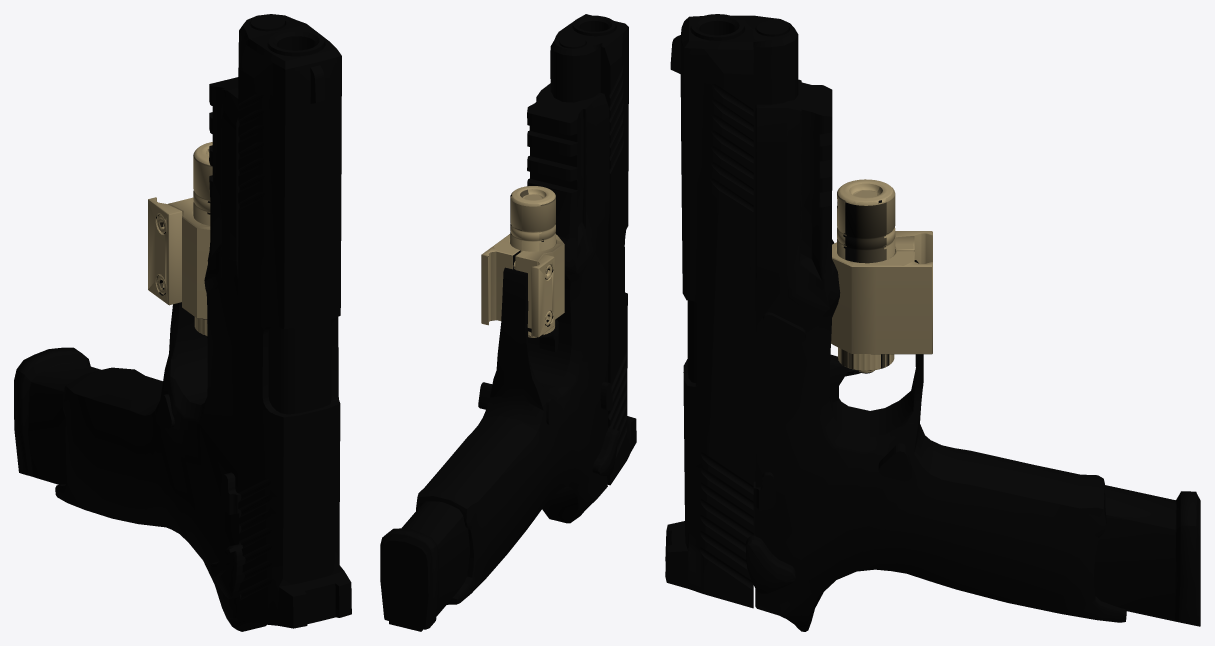
Rendered from SIG_M17__Light_Pistol.fbx.
3 renders of one model, left to right at view 1: azimuth 30°, elevation 25°; view 2: azimuth 150°, elevation 25°; view 3: azimuth 270°, elevation 25°, orthographic. The views are drawn at different scales.
Parts seen in each view (by area): view 1: asset_SIG_M17.001; view 2: asset_SIG_M17.001; view 3: asset_SIG_M17.001.
Boxes of the visible parts, <box> form: asset_SIG_M17.001: <box>14,14,351,631</box>; asset_SIG_M17.001: <box>380,14,636,631</box>; asset_SIG_M17.001: <box>665,14,1200,631</box>.
Size of the model in its own units: 0.0217 by 0.1254 by 0.1014.
